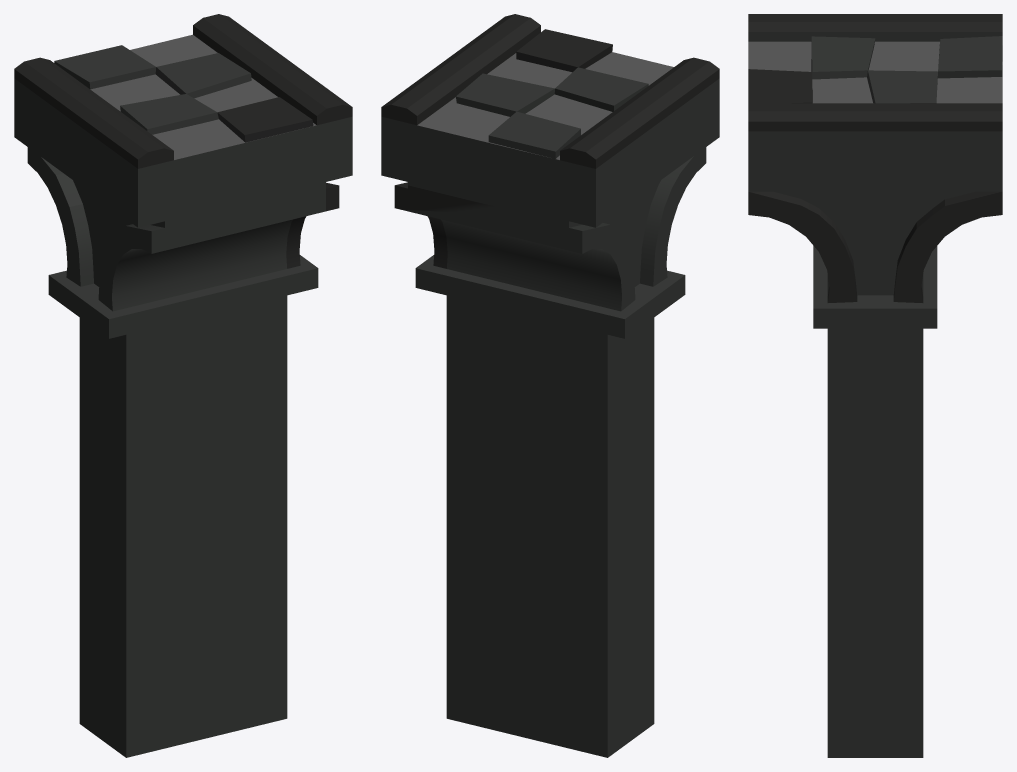
Rendered from stone bridge.fbx.
3 views of the same model, side by side, from view 1: azimuth 30°, elevation 25°; view 2: azimuth 150°, elevation 25°; view 3: azimuth 270°, elevation 25° (orthographic). The views are drawn at different scales.
Visible parts, largest first — view 1: stonebridge_LOD0; view 2: stonebridge_LOD0; view 3: stonebridge_LOD0.
Part boxes in pixels (x1=…): stonebridge_LOD0: x1=14, y1=14, x2=352, y2=757; stonebridge_LOD0: x1=381, y1=14, x2=719, y2=757; stonebridge_LOD0: x1=748, y1=14, x2=1002, y2=757.
Bounding box in the file's own units: 2 × 5.68 × 2.
